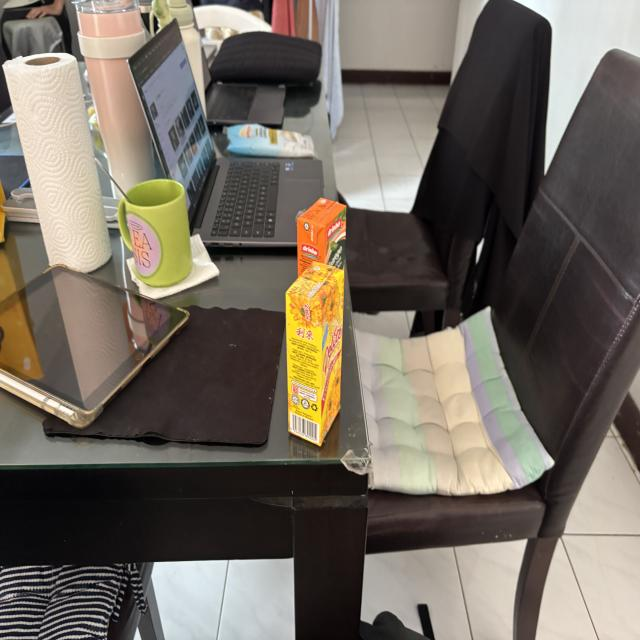drink_carton: (282, 253, 352, 457), (293, 190, 350, 358)
